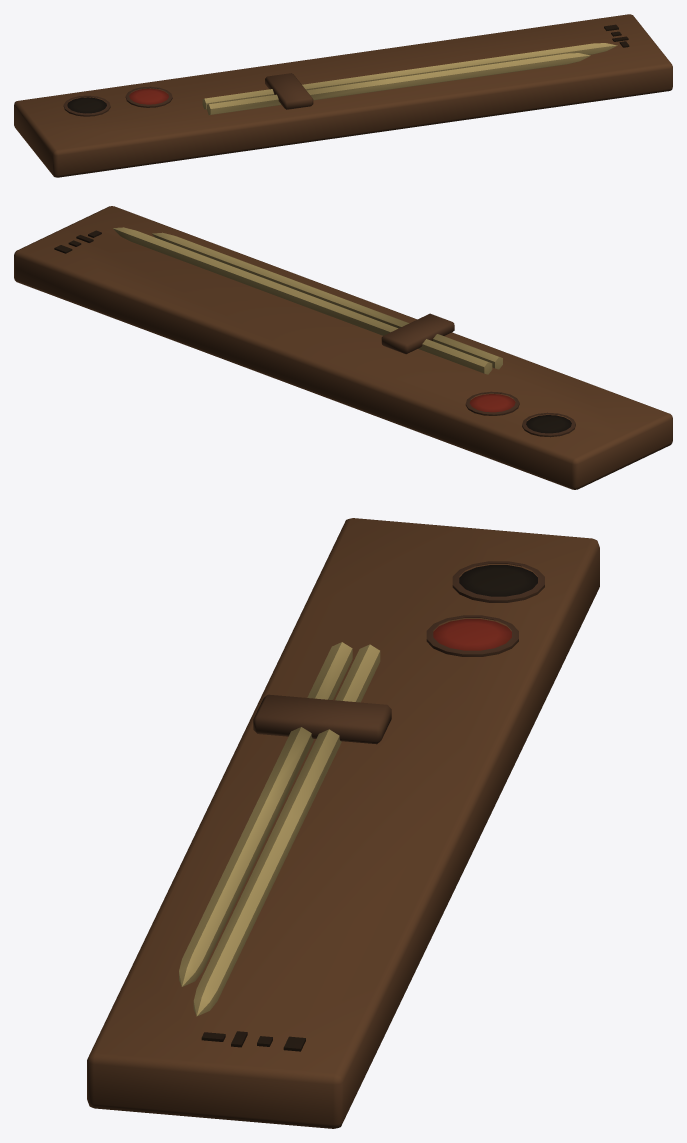
The model's file is palette.glb.
The picture shows the model from 3 angles, top to bottom: view 1: azimuth 30°, elevation 25°; view 2: azimuth 150°, elevation 25°; view 3: azimuth 270°, elevation 25°; orthographic projection. The views are drawn at different scales.
Parts seen in each view (by area): view 1: base; view 2: base; view 3: base.
Boxes of the visible parts, x1,y1,x2,y2 form: base: (14,14,672,177); base: (14,206,672,489); base: (87,518,599,1128).
Size of the model in its own units: 0.3051 by 0.0208 by 0.1176.
